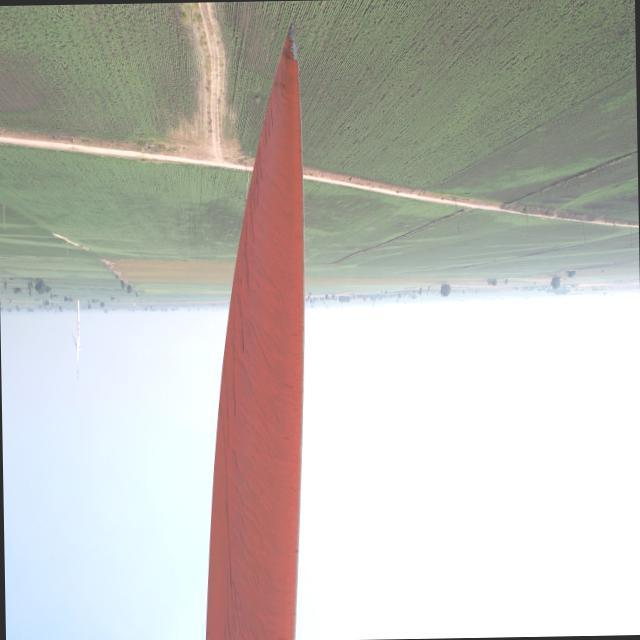Dirt: (220, 187, 300, 620)
Oil LEAKAGE: (281, 25, 301, 60)
